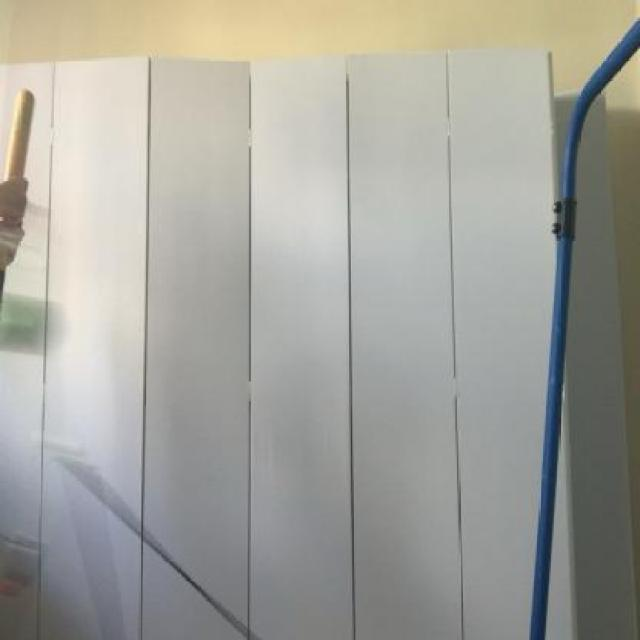baseball: (5, 278, 64, 354)
